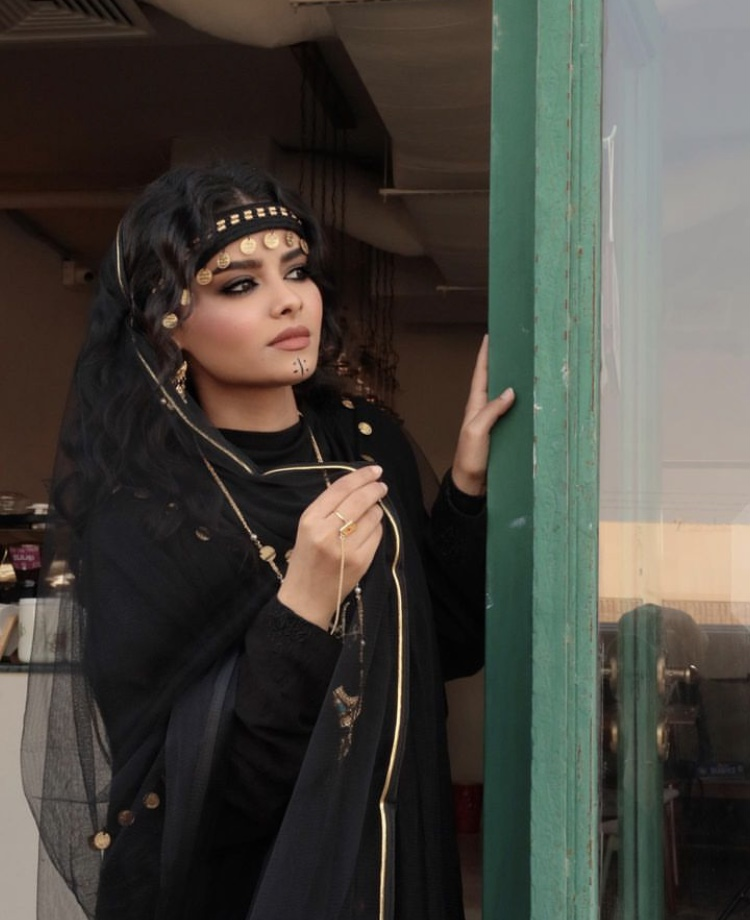Saudi_Founding_Day: (22, 156, 521, 920)
